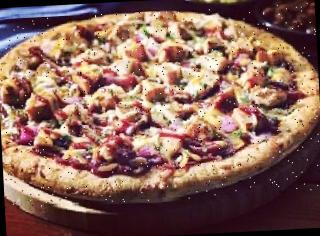Pizza: (0, 4, 320, 209)
